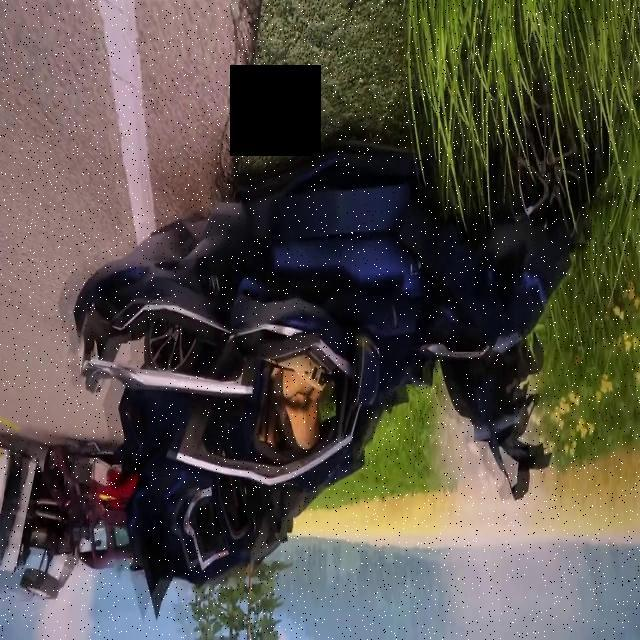severe: (73, 138, 594, 625), (0, 440, 154, 620)
